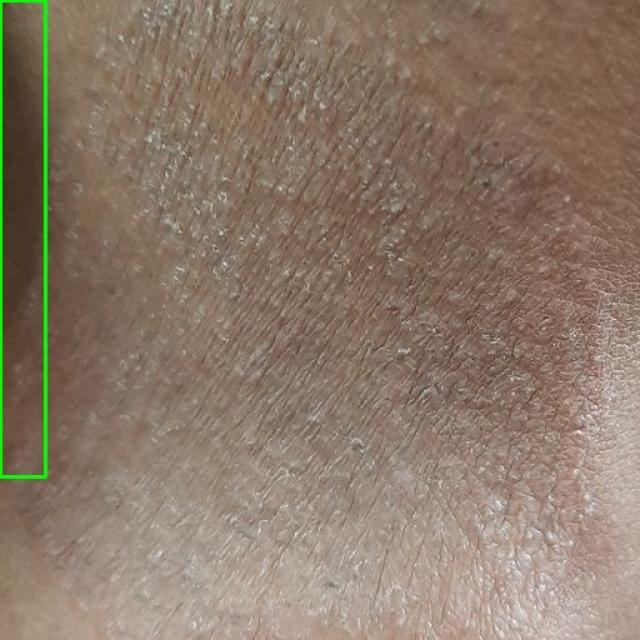Tinea Corporis: (0, 0, 45, 476)
